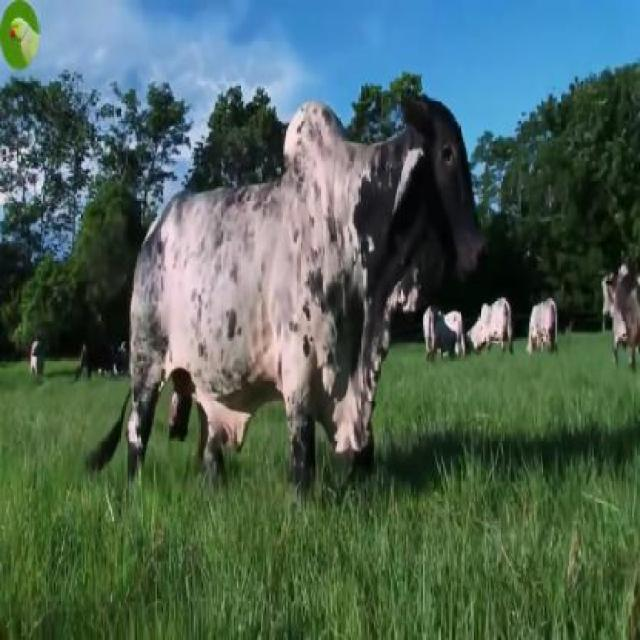Cow: (128, 97, 483, 485)
